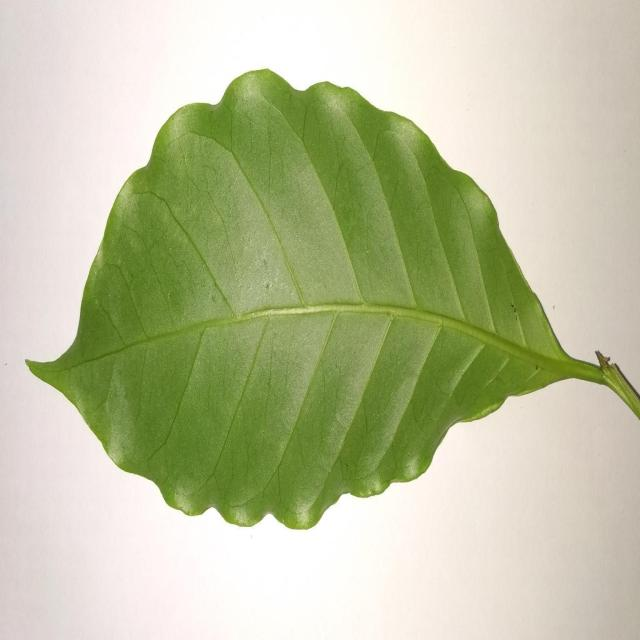Sanas: (25, 69, 640, 531)
